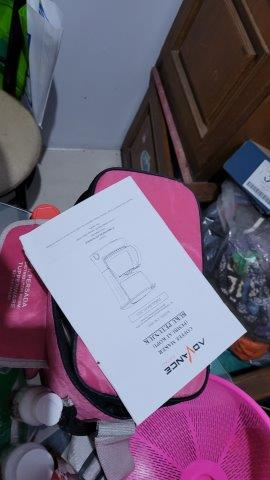kertas: (22, 174, 248, 426)
